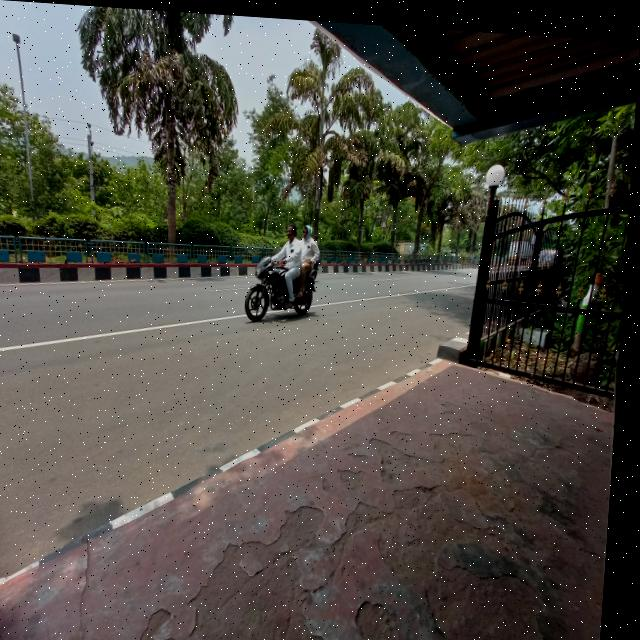bike: (249, 253, 322, 316)
